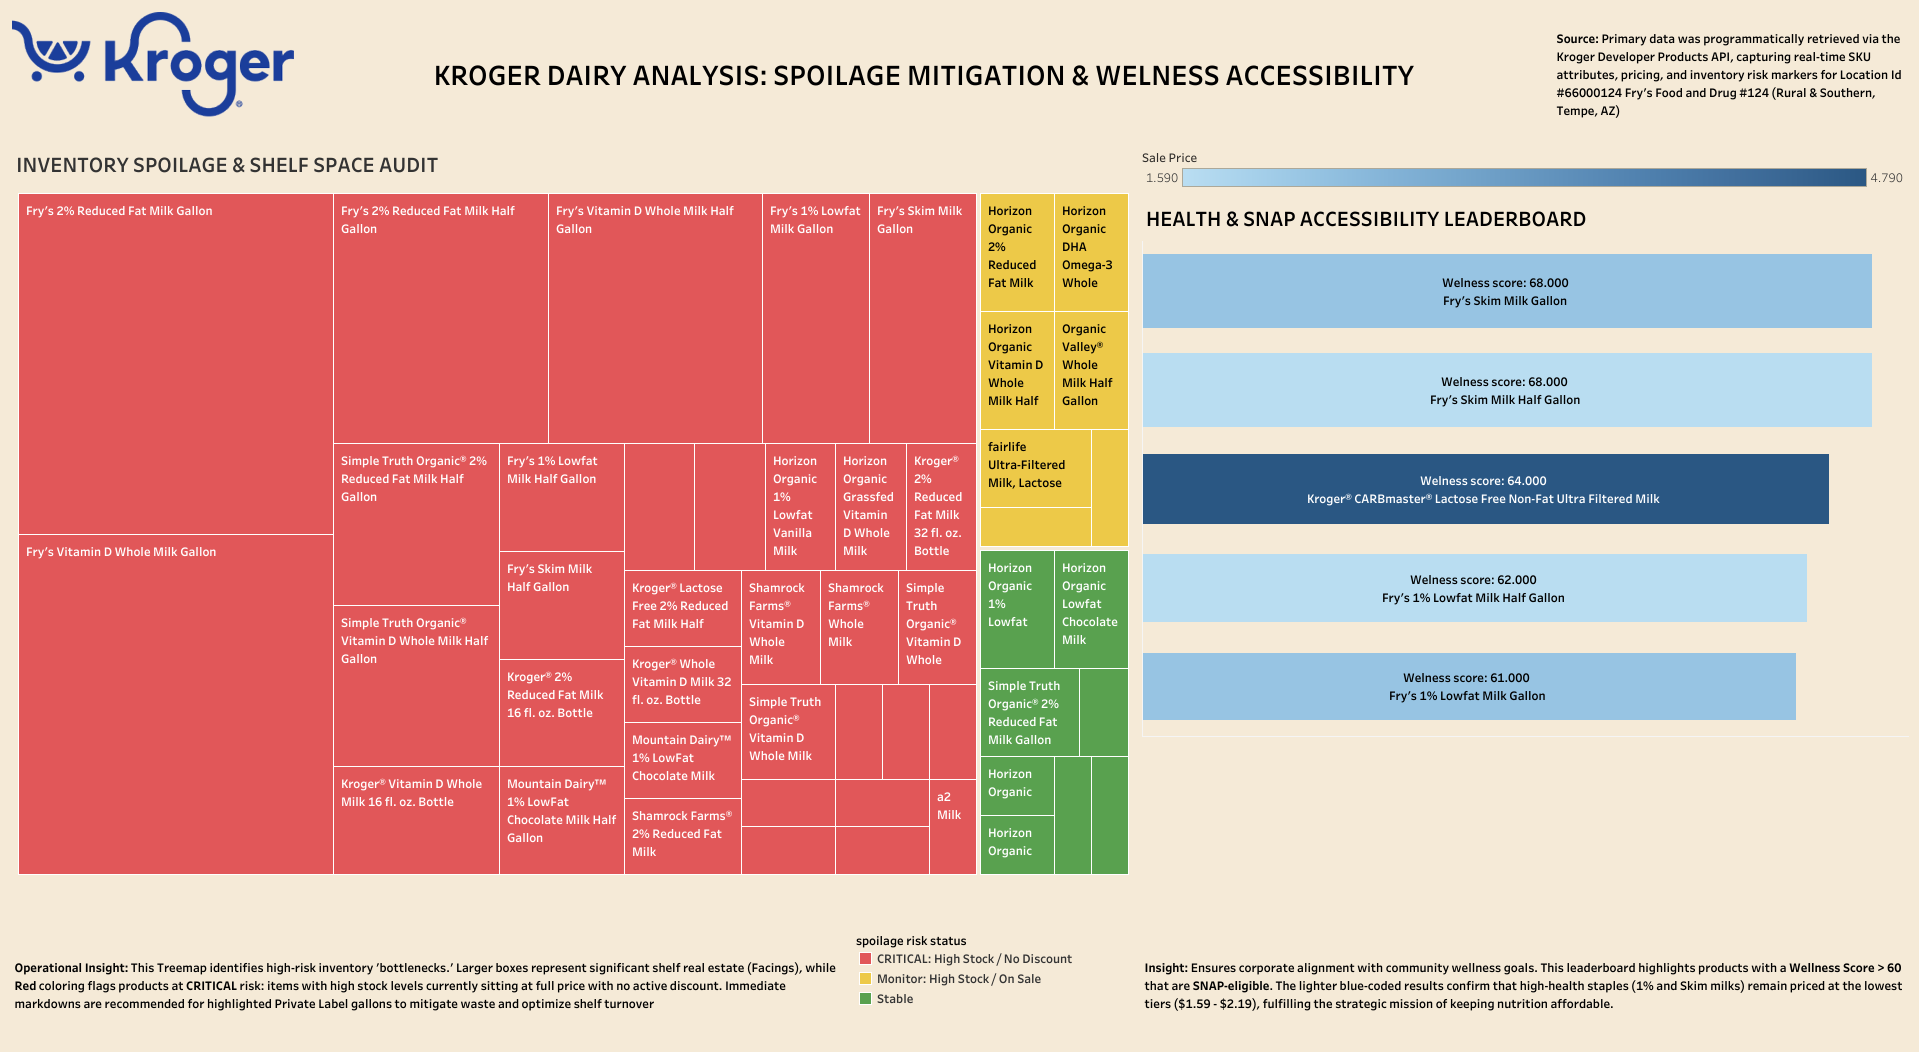

This screenshot's page, from the dashboard's own definition file:
{"tool":"tableau","page":{"name":"Dashboard 1","canvas":[1000,1000],"units":"permille","ordinal":0},"visuals":[{"type":"image","param":"C:/Users/efbvl/Downloads/Kroger_(2021)_logo.svg.png","box":[4.7,9.3,151,125]},{"type":"text","box":[155.7,9.3,651.3,125]},{"type":"text","box":[807,9.3,188.3,125]},{"type":"worksheet","title":"spoilage","mark":"Automatic","box":[4.7,134.3,587.7,743]},{"type":"legend","title":"SNAP","param":"[federated.1yusy0k06amojl1gqbz650jbti1k].[sum:sale_price:qk]","box":[592.4,134.3,403,51.4]},{"type":"worksheet","title":"SNAP","mark":"Automatic","rows":["product_description"],"cols":["wellness_score"],"box":[592.4,185.8,403,691.6]},{"type":"text","box":[4.7,877.3,438.5,113.3]},{"type":"legend","title":"spoilage","param":"[federated.1yusy0k06amojl1gqbz650jbti1k].[none:Calculation_0798293122813952:nk]","box":[443.2,877.3,149.3,113.3]},{"type":"text","box":[592.4,877.3,402.9,113.3]}]}

Visuals, with their boxes on the dashboard's canvas, which has no fixed pixel size, in thousandths of its width and height (x1, y1, x2, y2). These are canvas units, not pixel positions in the 1919x1052 screenshot, which may show the page scaled, cropped or inside an application window:
image: [5,9,156,134]
text: [156,9,807,134]
text: [807,9,995,134]
"spoilage" worksheet: [5,134,592,877]
"SNAP" legend: [592,134,995,186]
"SNAP" worksheet: [592,186,995,877]
text: [5,877,443,991]
"spoilage" legend: [443,877,592,991]
text: [592,877,995,991]
